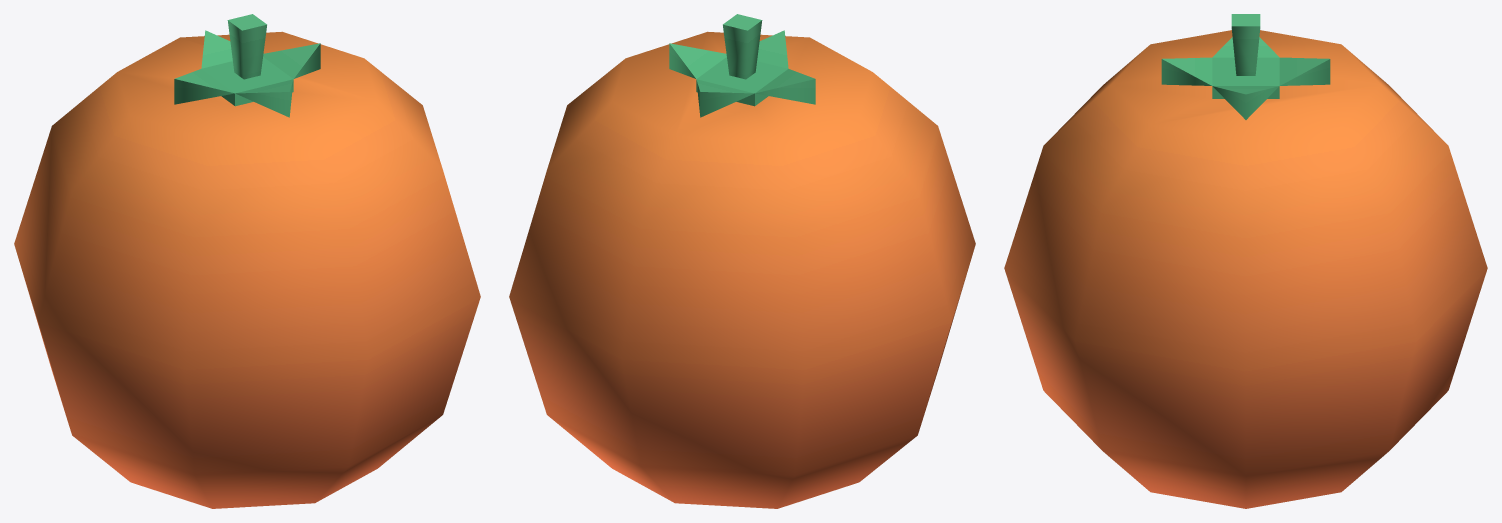
Rendered from orange.2f36c42455.glb.
3 renders of one model, left to right at view 1: azimuth 30°, elevation 25°; view 2: azimuth 150°, elevation 25°; view 3: azimuth 270°, elevation 25°, orthographic.
Visible parts, largest first — view 1: orange; view 2: orange; view 3: orange.
Boxes of the visible parts, x1,y1,x2,y2 form: orange: (14, 14, 480, 508); orange: (509, 14, 975, 508); orange: (1004, 14, 1487, 508).
Bounding box in the file's own units: 0.1697 × 0.1672 × 0.1697.
Materials: 1 (1 with a texture image).
